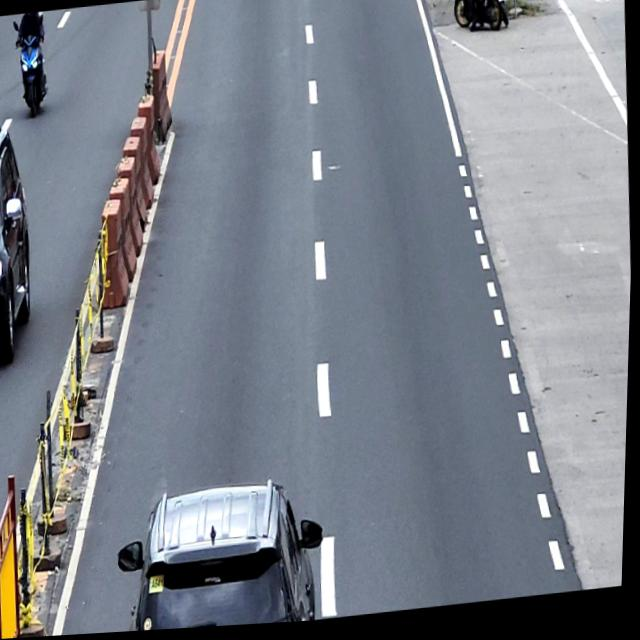Car: (116, 476, 333, 634), (0, 114, 40, 365)
License-Plate: (497, 0, 507, 8)
Motorcycle: (11, 17, 52, 119), (452, 0, 511, 40)
